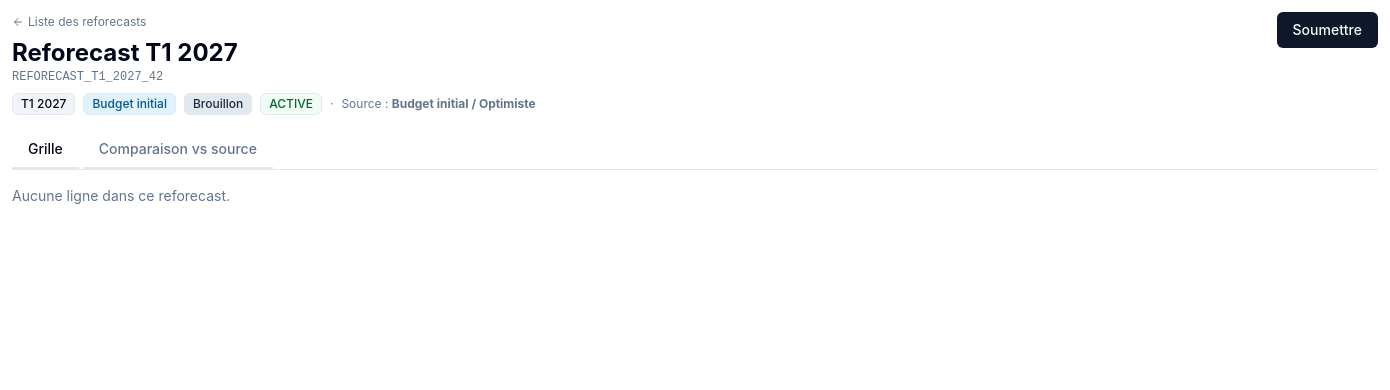
ReforecastDetailPage › clic sur l'onglet Comparaison change le contenu affiché
Click the tab with test id "tab-comparaison" at (178, 150), box [83, 131, 273, 169]
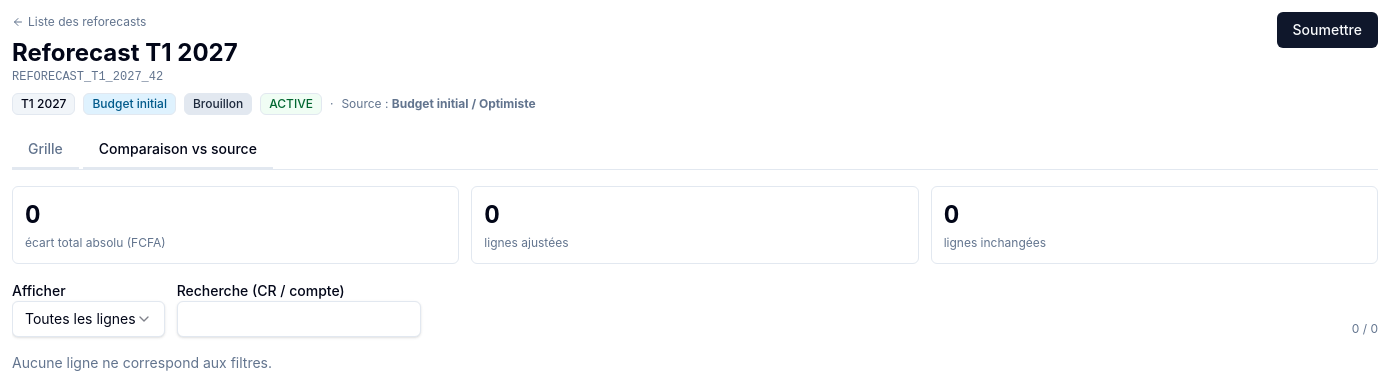
Result: the panel with test id "tabpanel-comparaison" is shown at [12, 186, 1378, 373]
